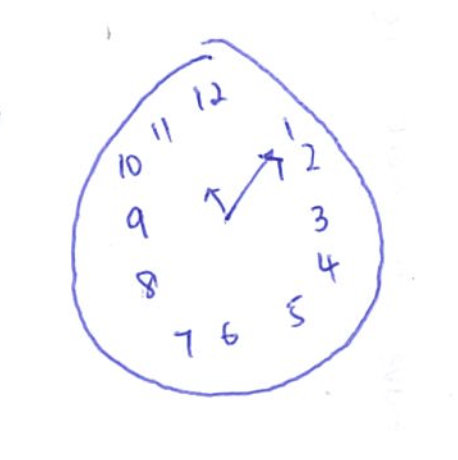1: (279, 112, 297, 144)
10: (114, 147, 143, 181)
11: (148, 113, 175, 144)
12: (189, 80, 229, 112)
2: (298, 140, 328, 172)
3: (309, 202, 332, 234)
4: (311, 251, 343, 284)
5: (282, 293, 310, 330)
6: (217, 318, 242, 348)
7: (172, 322, 198, 362)
8: (133, 267, 162, 301)
9: (126, 204, 150, 241)
contour: (65, 36, 387, 400)
hand: (205, 150, 285, 225)
top_left_arrow: (202, 186, 226, 217)
top_right_arrow: (226, 153, 283, 223)
